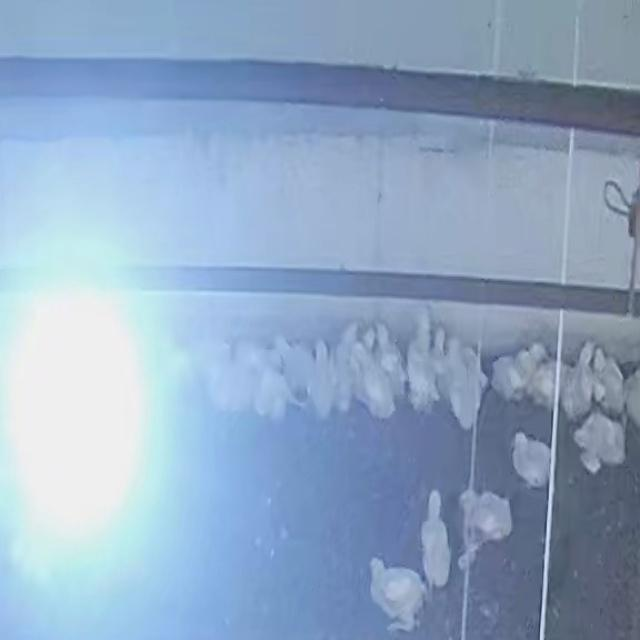chicken: (372, 558, 424, 626), (573, 408, 626, 472), (447, 341, 479, 425), (461, 489, 512, 540), (354, 348, 392, 416), (510, 430, 553, 488), (424, 492, 449, 588), (566, 342, 594, 415), (407, 325, 431, 405), (593, 349, 623, 413), (256, 371, 288, 427), (276, 337, 310, 389), (491, 350, 526, 398), (309, 341, 331, 416), (376, 320, 404, 378), (332, 346, 352, 406), (431, 327, 448, 395), (521, 342, 552, 373), (340, 326, 355, 360)
